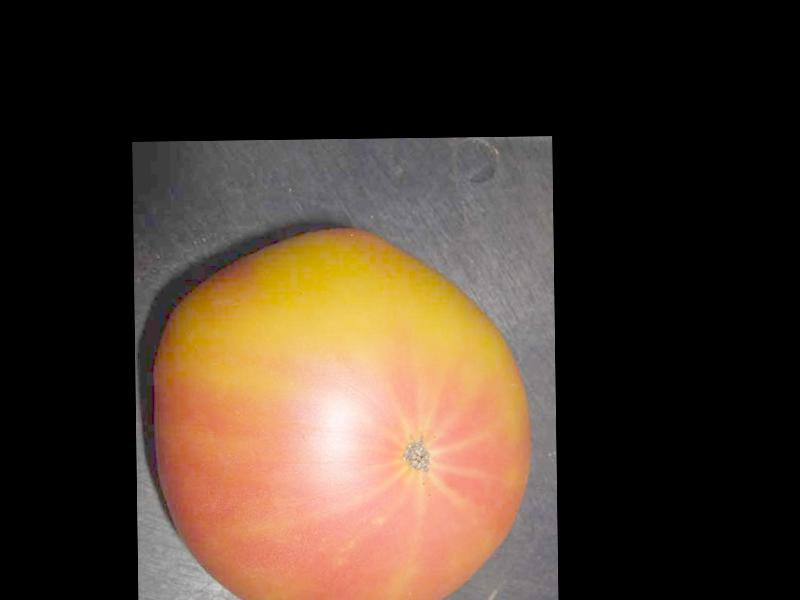Tomato: (149, 231, 532, 600)
